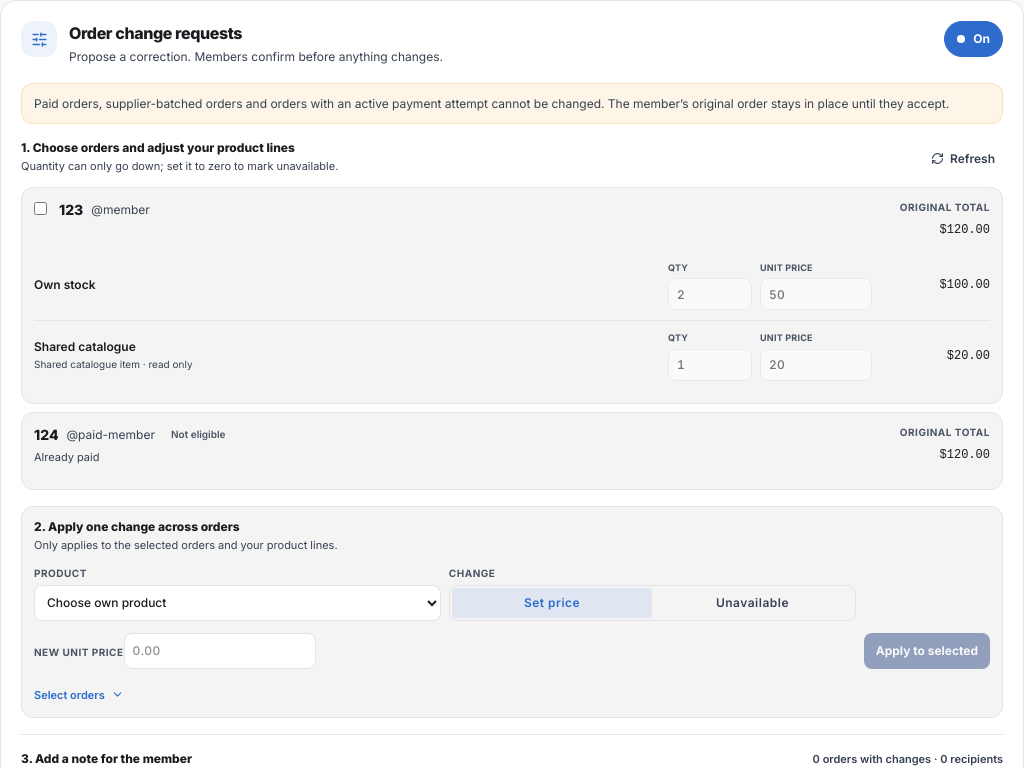
Test: keeps non-owned lines read-only and excludes paid orders
This screenshot has width=1024, height=768.
Click the checkbox with test id "select-order-o". click: (40, 208)
box: [34,202,47,214]
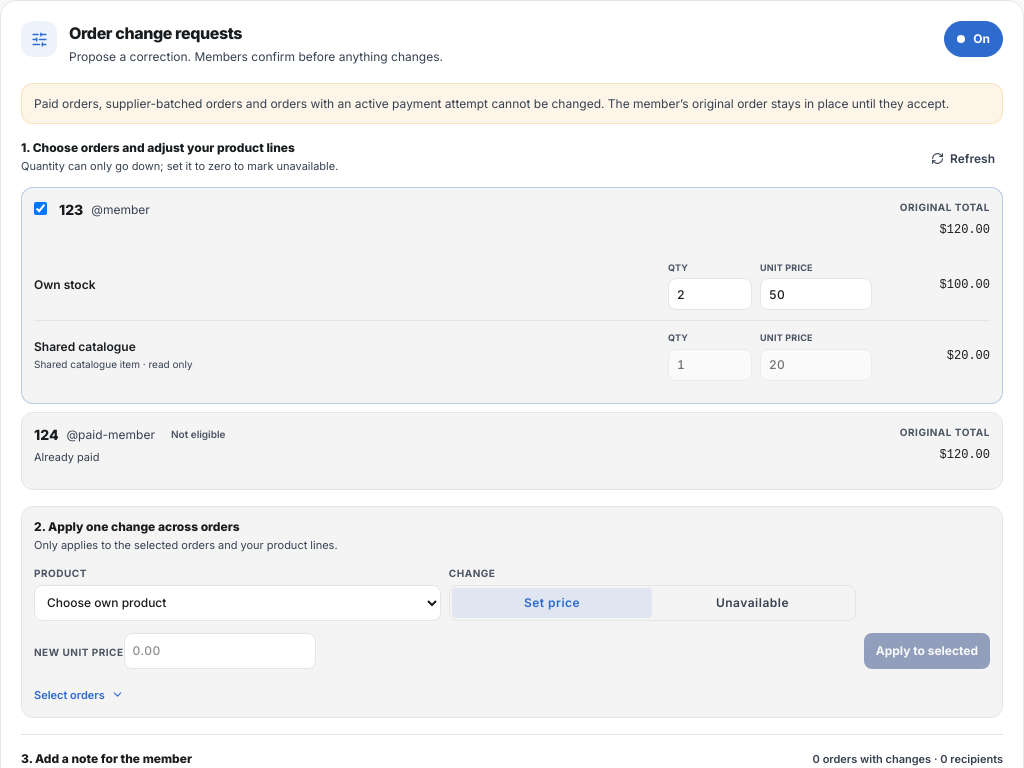
Expected: the number field with test id "input-unit-price-shared-line" is disabled, [760,348,872,380]
Now the number field with test id "input-unit-price-own-line" is enabled, box [760,278,872,310]
